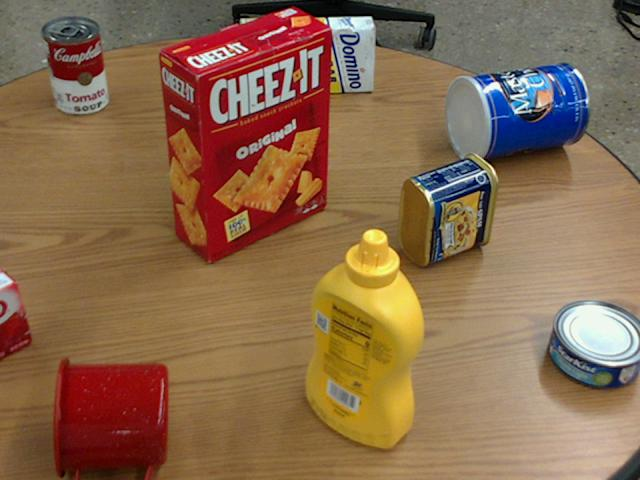cracker_box: (158, 7, 332, 261)
gelatin_box: (0, 268, 29, 356)
master_chef_can: (444, 62, 588, 162)
mug: (52, 357, 165, 479)
mustard_bottle: (305, 228, 422, 448)
potted_meat_can: (398, 151, 498, 266)
sugar_box: (240, 15, 377, 93)
tomato_soup_can: (42, 16, 108, 114)
tuna_fish_can: (547, 299, 639, 387)
